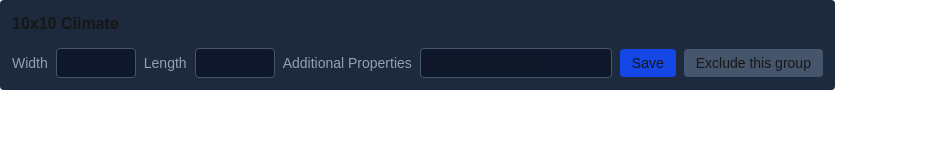
Test: GroupCorrectionCard › shows the error message from a failed save
Click the button "Save".
click(648, 63)  # box x1=620 y1=49 x2=676 y2=77
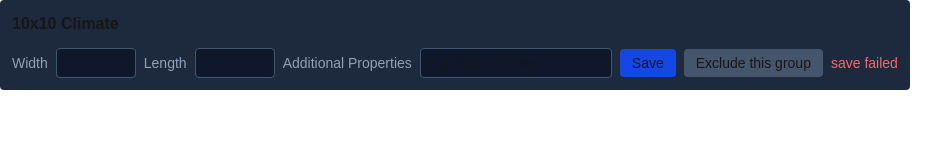
Expected: the text "save failed" is shown, x1=831 y1=53 x2=898 y2=73
